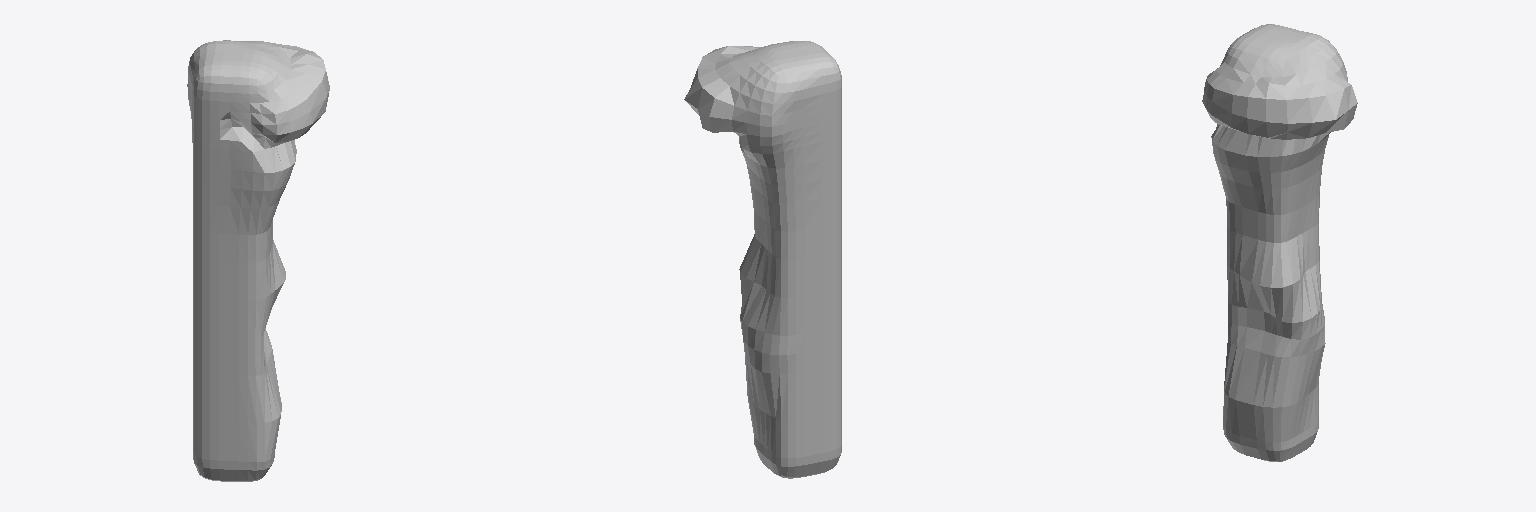
Rendered from env_level1_Canyon_Rock10.obj.
3 renders of one model, left to right at view 1: azimuth 30°, elevation 25°; view 2: azimuth 150°, elevation 25°; view 3: azimuth 270°, elevation 25°, orthographic.
Parts seen in each view (by area): view 1: rockwall_b03; view 2: rockwall_b03; view 3: rockwall_b03.
Boxes of the visible parts, box(x1,y1,x2,y2) form: rockwall_b03: box(187, 40, 329, 481); rockwall_b03: box(684, 41, 841, 478); rockwall_b03: box(1202, 24, 1357, 461).
Bounding box in the file's own units: 2414 × 7233 × 2448.